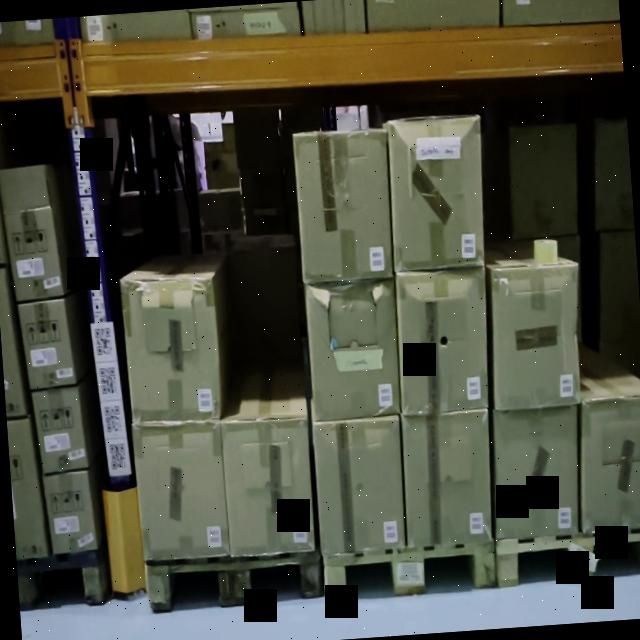box: (386, 116, 484, 268), (296, 132, 392, 281), (123, 276, 220, 422), (393, 268, 489, 414), (306, 282, 402, 419), (134, 422, 228, 560), (222, 416, 314, 554), (400, 410, 494, 544), (492, 263, 578, 407), (314, 422, 404, 550), (493, 407, 578, 536), (583, 397, 640, 533), (6, 417, 48, 560), (4, 206, 63, 300), (18, 299, 76, 386), (31, 386, 88, 474), (41, 471, 97, 554), (0, 266, 27, 416)
